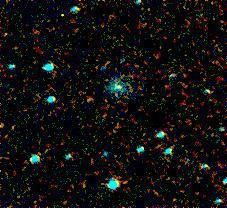star: (71, 87, 101, 117)
